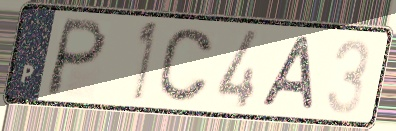1: (131, 18, 162, 107)
3: (325, 37, 371, 116)
4: (213, 25, 262, 112)
A: (257, 32, 316, 114)
C: (154, 25, 216, 105)
P: (41, 15, 110, 100)
